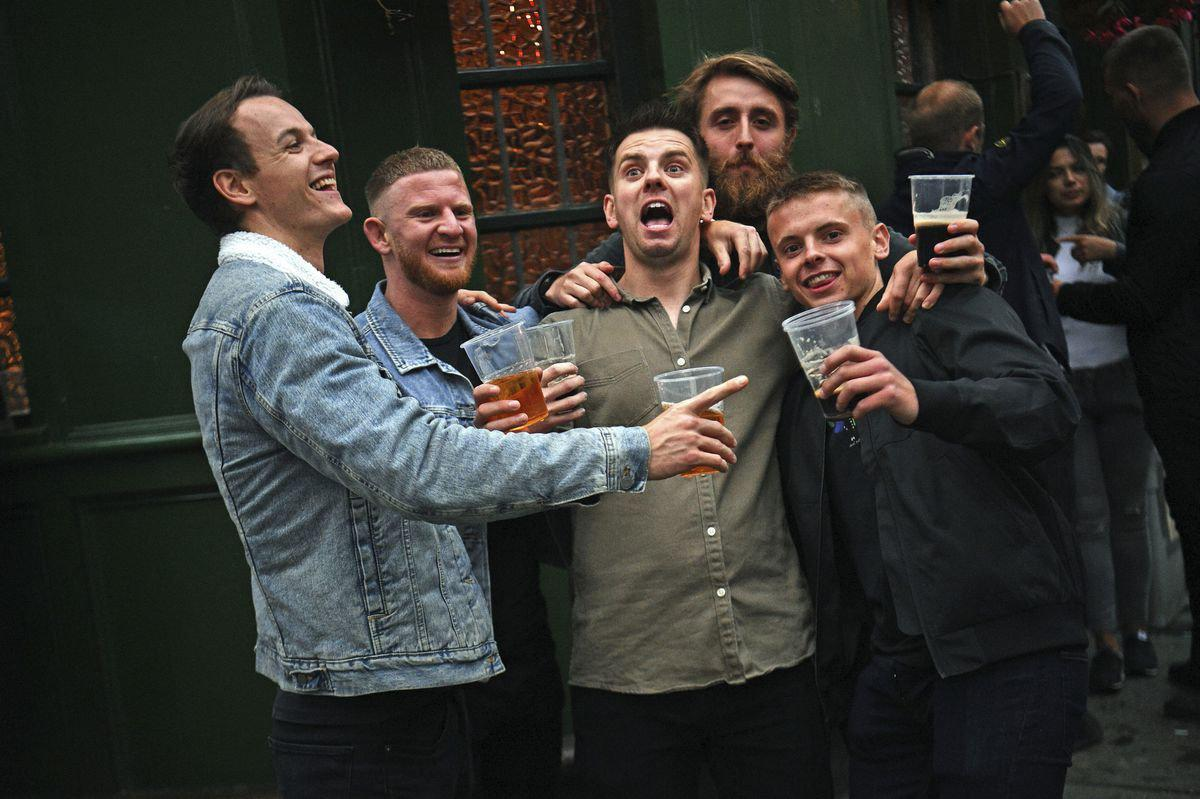Drunk: (241, 99, 356, 232), (701, 67, 789, 193), (391, 165, 480, 283), (617, 137, 695, 252)
